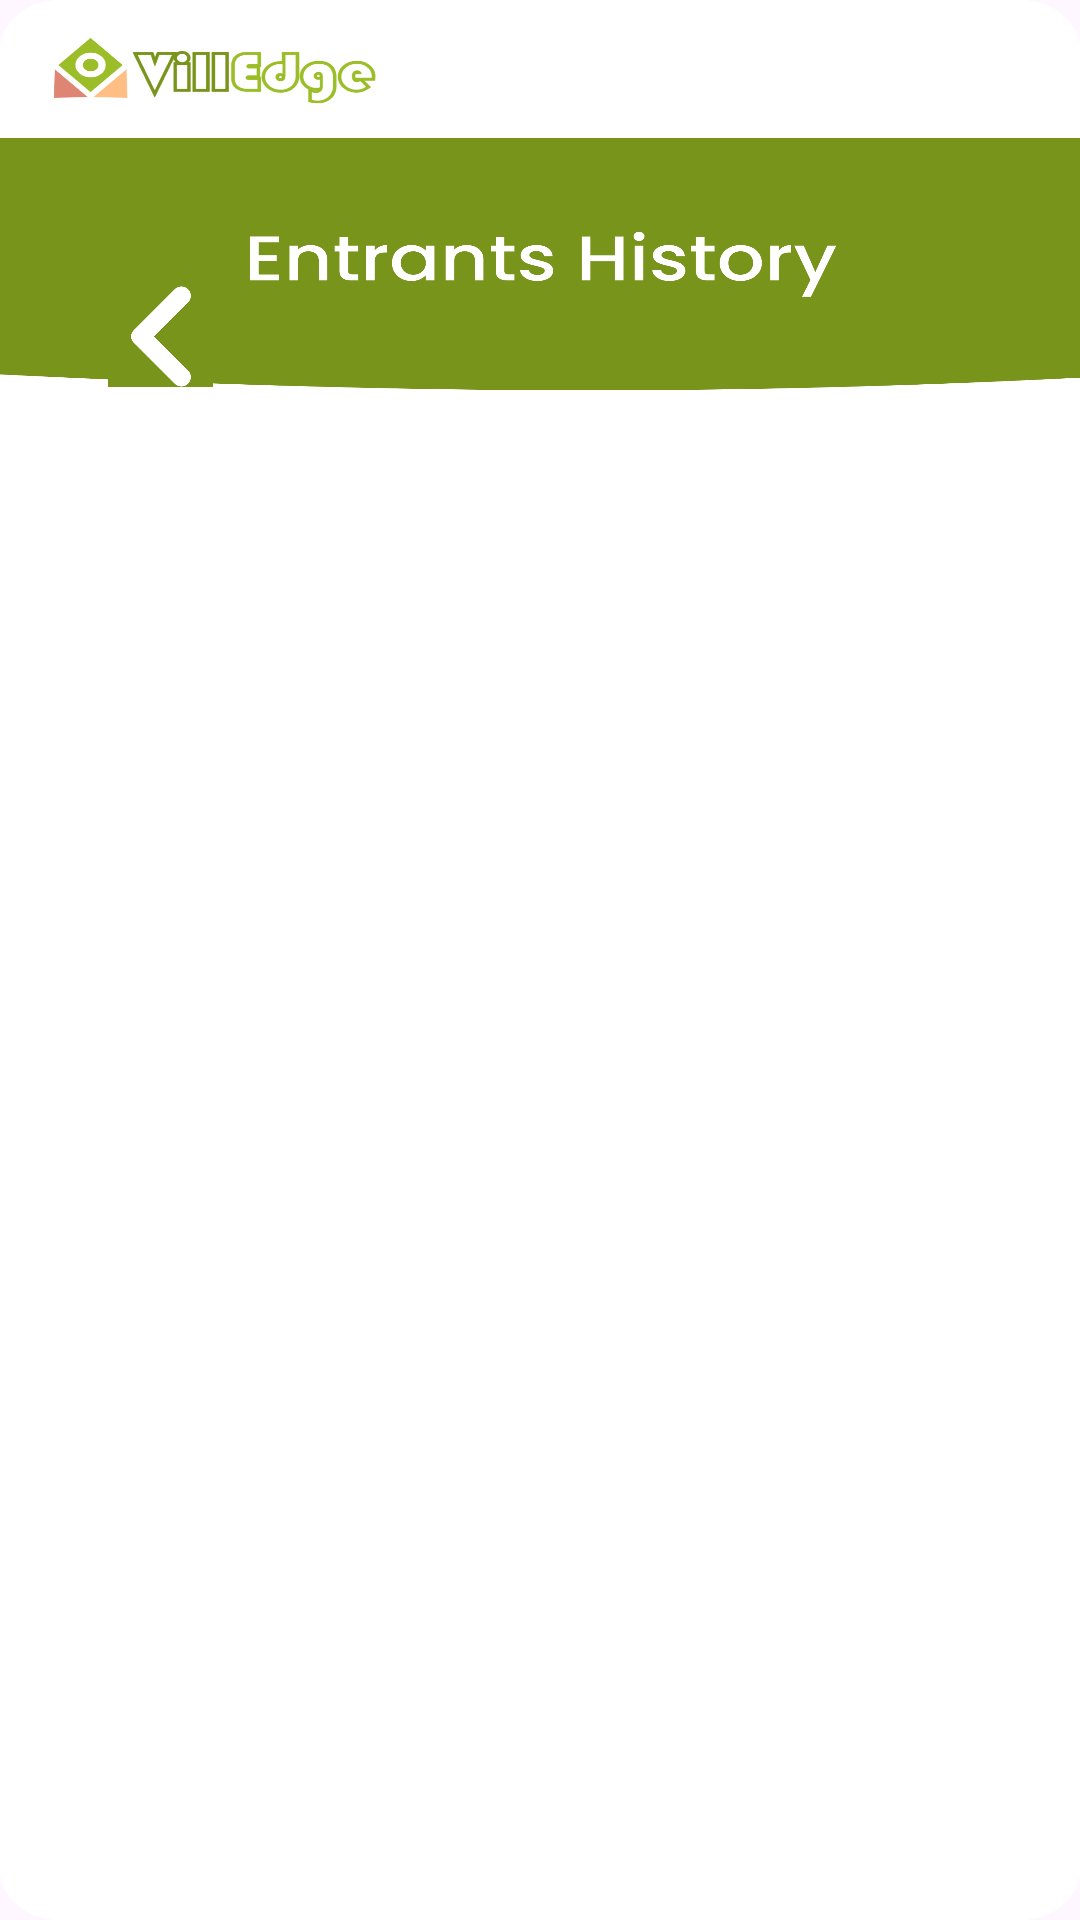

Icon click points for this 1080*1920 phone screenshot, format (x,y):
backbutton: (161,336)
